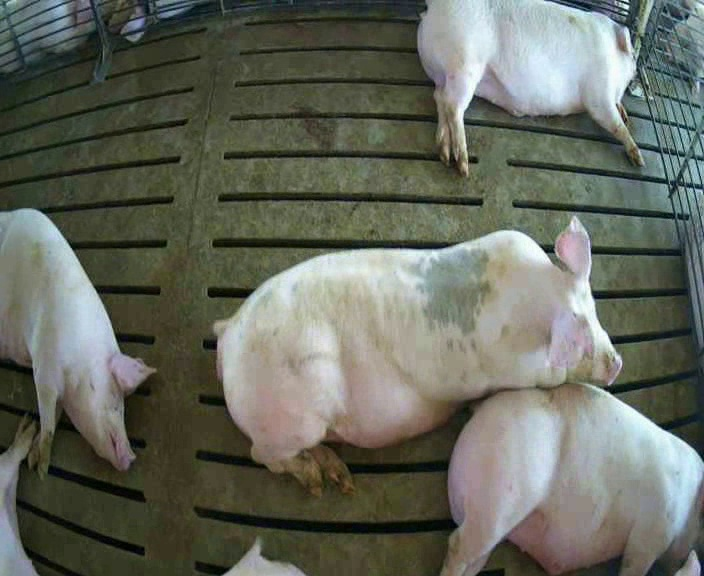pig: (215, 217, 621, 494), (442, 385, 703, 574), (417, 2, 643, 173)
